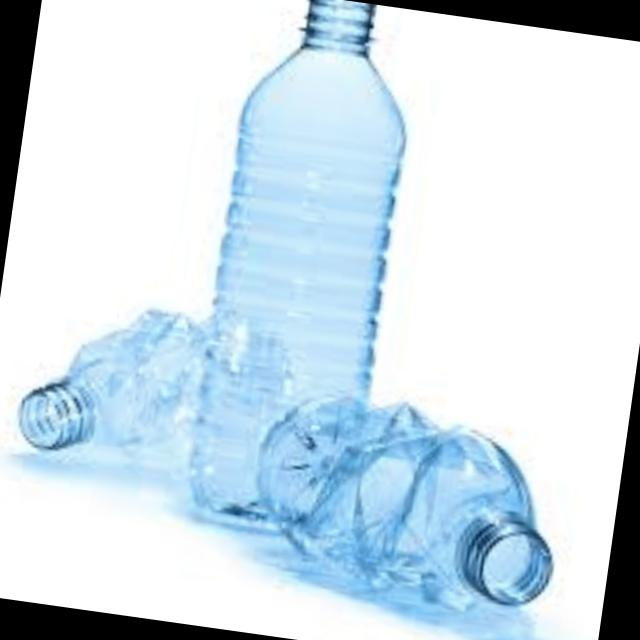plastic: (193, 0, 405, 513), (266, 395, 556, 601), (22, 309, 206, 464)
